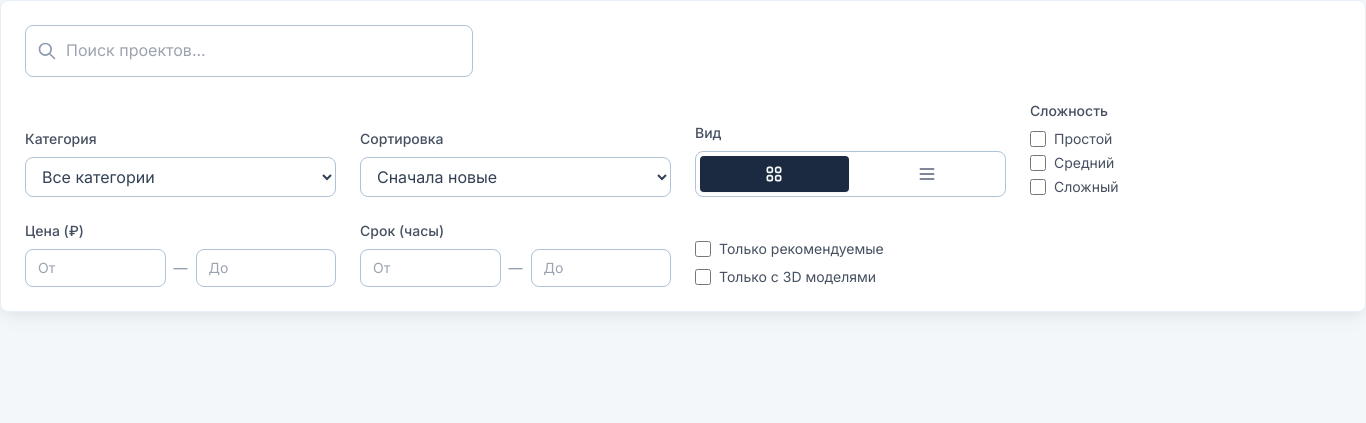
GalleryFilter › clears search when clear button is clicked
In the field with class "search-input": (249, 51) [25,25,473,77], type "test"
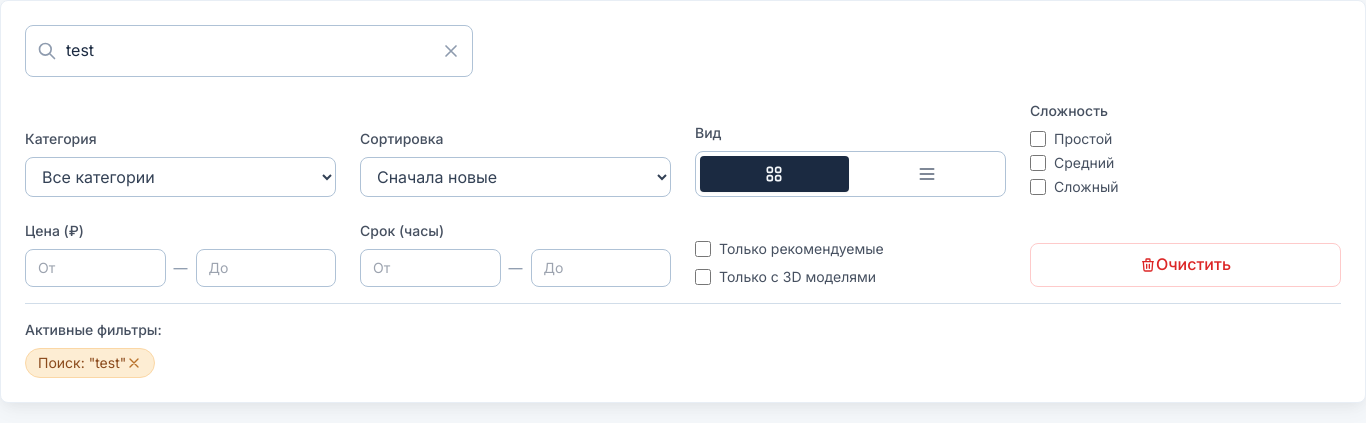
Click the button with class "clear-search": (451, 51) [441,41,461,61]
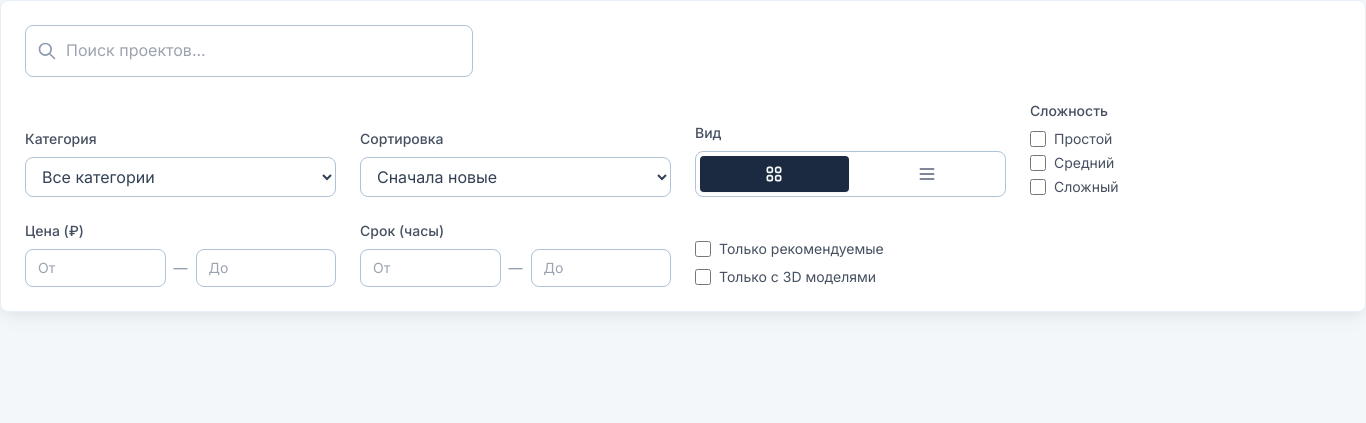
Now the field with class "search-input" is empty, box [25,25,473,77]
